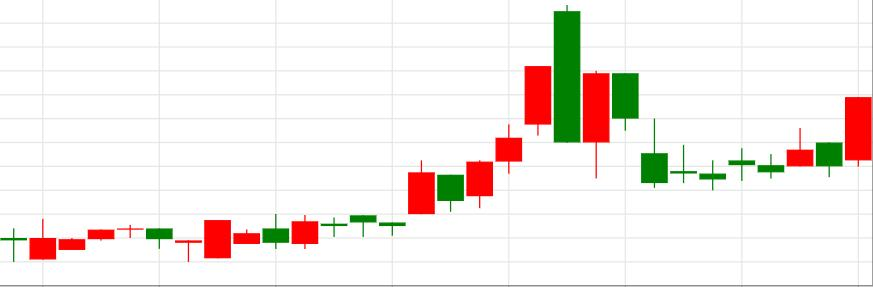bearish_engulfing_fall: (173, 4, 582, 262)
